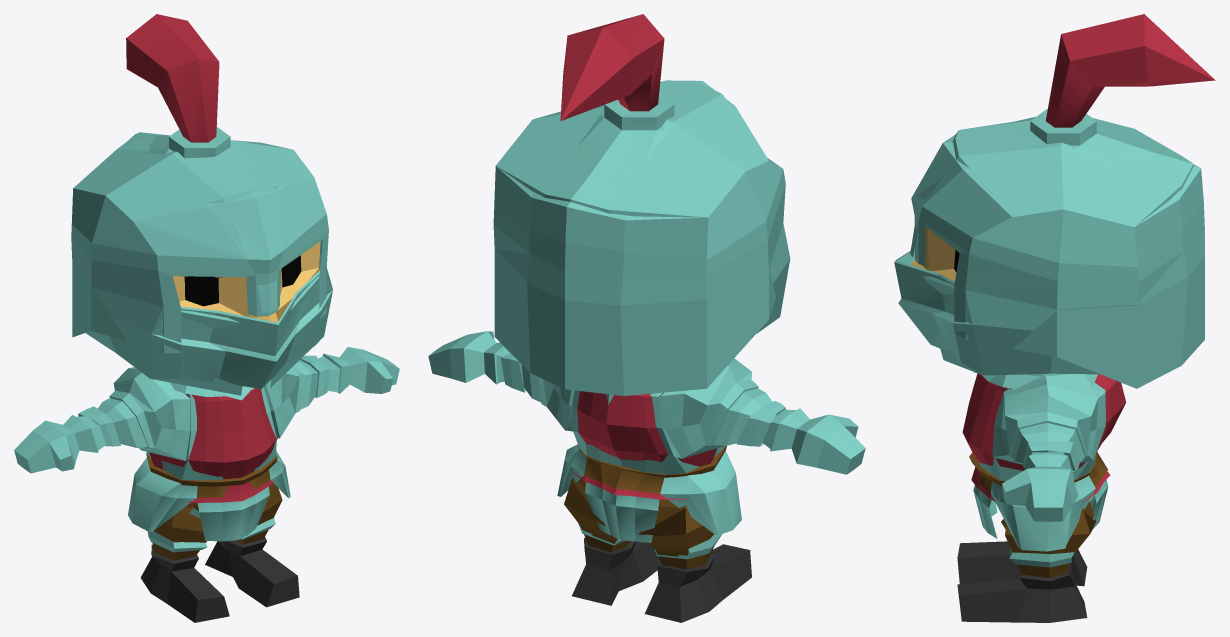
Rendered from player 2.fbx.
3 renders of one model, left to right at view 1: azimuth 30°, elevation 25°; view 2: azimuth 150°, elevation 25°; view 3: azimuth 270°, elevation 25°, orthographic. The views are drawn at different scales.
Visible parts, largest first — view 1: helmet 1, helmet 2, helmet 3, knight armor 2, pants 1, knight base body, knight armor 1, knight armor 3, pants 3; view 2: helmet 1, helmet 2, knight armor 2, pants 1, knight armor 3, knight base body, knight armor 1, pants 3; view 3: helmet 2, helmet 1, pants 1, helmet 3, knight armor 2, knight armor 3, knight armor 1, knight base body, pants 3.
Boxes of the visible parts, <box> form: helmet 1: <box>71,132,328,353</box>; helmet 2: <box>86,14,332,395</box>; helmet 3: <box>93,214,332,389</box>; knight armor 2: <box>109,363,305,531</box>; pants 1: <box>140,483,299,622</box>; knight base body: <box>14,241,399,518</box>; knight armor 1: <box>146,382,277,502</box>; knight armor 3: <box>76,355,339,541</box>; pants 3: <box>147,518,275,552</box>; helmet 1: <box>494,80,785,395</box>; helmet 2: <box>493,14,790,333</box>; knight armor 2: <box>538,372,758,535</box>; pants 1: <box>564,478,751,622</box>; knight armor 3: <box>496,348,795,542</box>; knight base body: <box>428,331,865,474</box>; knight armor 1: <box>571,391,726,499</box>; pants 3: <box>578,524,721,559</box>; helmet 2: <box>911,14,1215,375</box>; helmet 1: <box>914,117,1204,388</box>; pants 1: <box>957,501,1096,622</box>; helmet 3: <box>894,198,1057,374</box>; knight armor 2: <box>979,382,1121,551</box>; knight armor 3: <box>973,375,1108,538</box>; knight armor 1: <box>962,372,1126,502</box>; knight base body: <box>910,227,1096,521</box>; pants 3: <box>1009,548,1074,567</box>.
Bounding box in the file's own units: 134 × 184 × 92.51.
